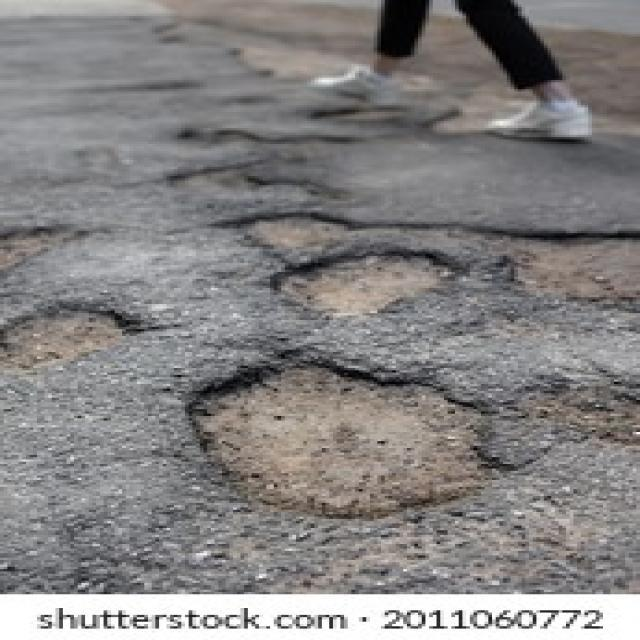Pothole: (185, 352, 500, 521), (233, 212, 640, 302), (259, 245, 466, 322), (0, 299, 141, 384), (518, 373, 640, 448), (159, 162, 337, 201), (0, 224, 85, 284), (182, 128, 352, 151), (318, 105, 411, 121)
